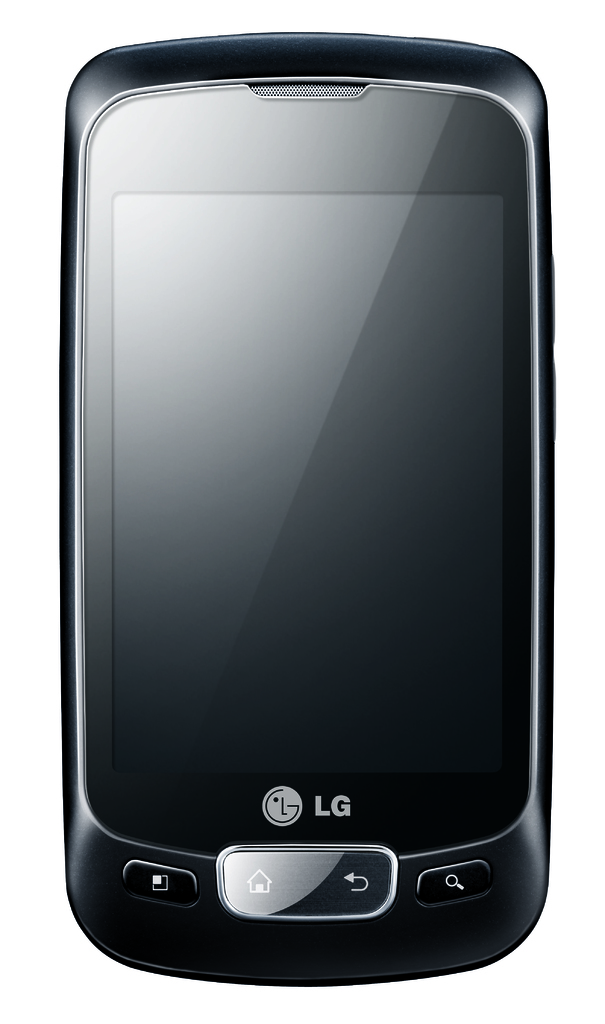Mobile-phone: (69, 32, 551, 983)
